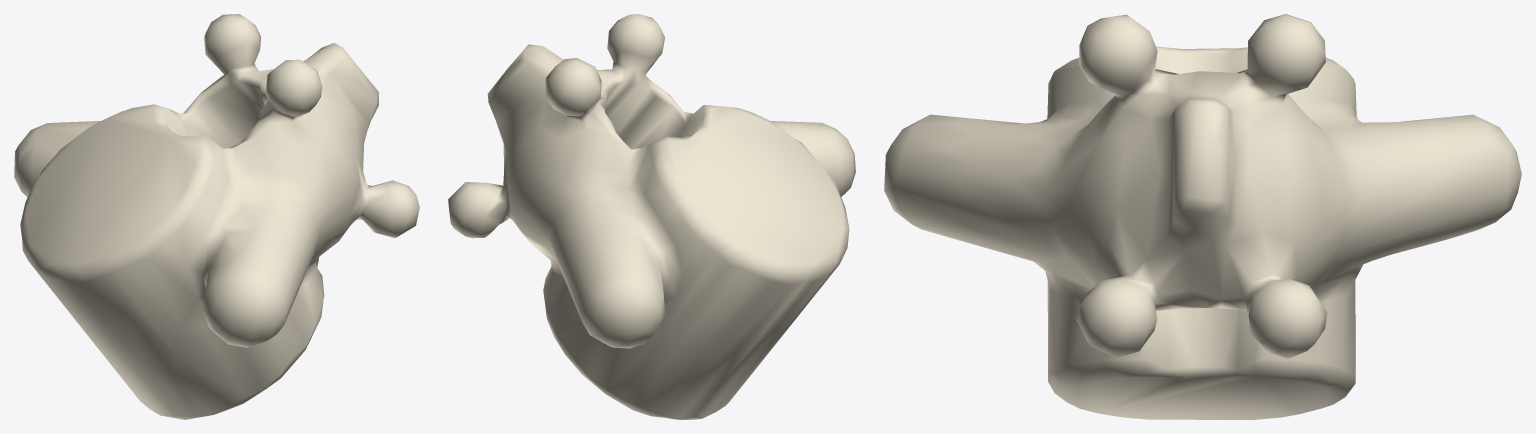
File: cervical_3.glb
3 renders of one model, left to right at view 1: azimuth 30°, elevation 25°; view 2: azimuth 150°, elevation 25°; view 3: azimuth 270°, elevation 25°, orthographic. The views are drawn at different scales.
Parts seen in each view (by area): view 1: geometry_0; view 2: geometry_0; view 3: geometry_0.
Boxes of the visible parts, x1,y1,x2,y2 form: geometry_0: (14,14,419,419); geometry_0: (448,14,855,419); geometry_0: (884,14,1521,419).
Bounding box in the file's own units: 0.2791 × 0.2641 × 0.323.
